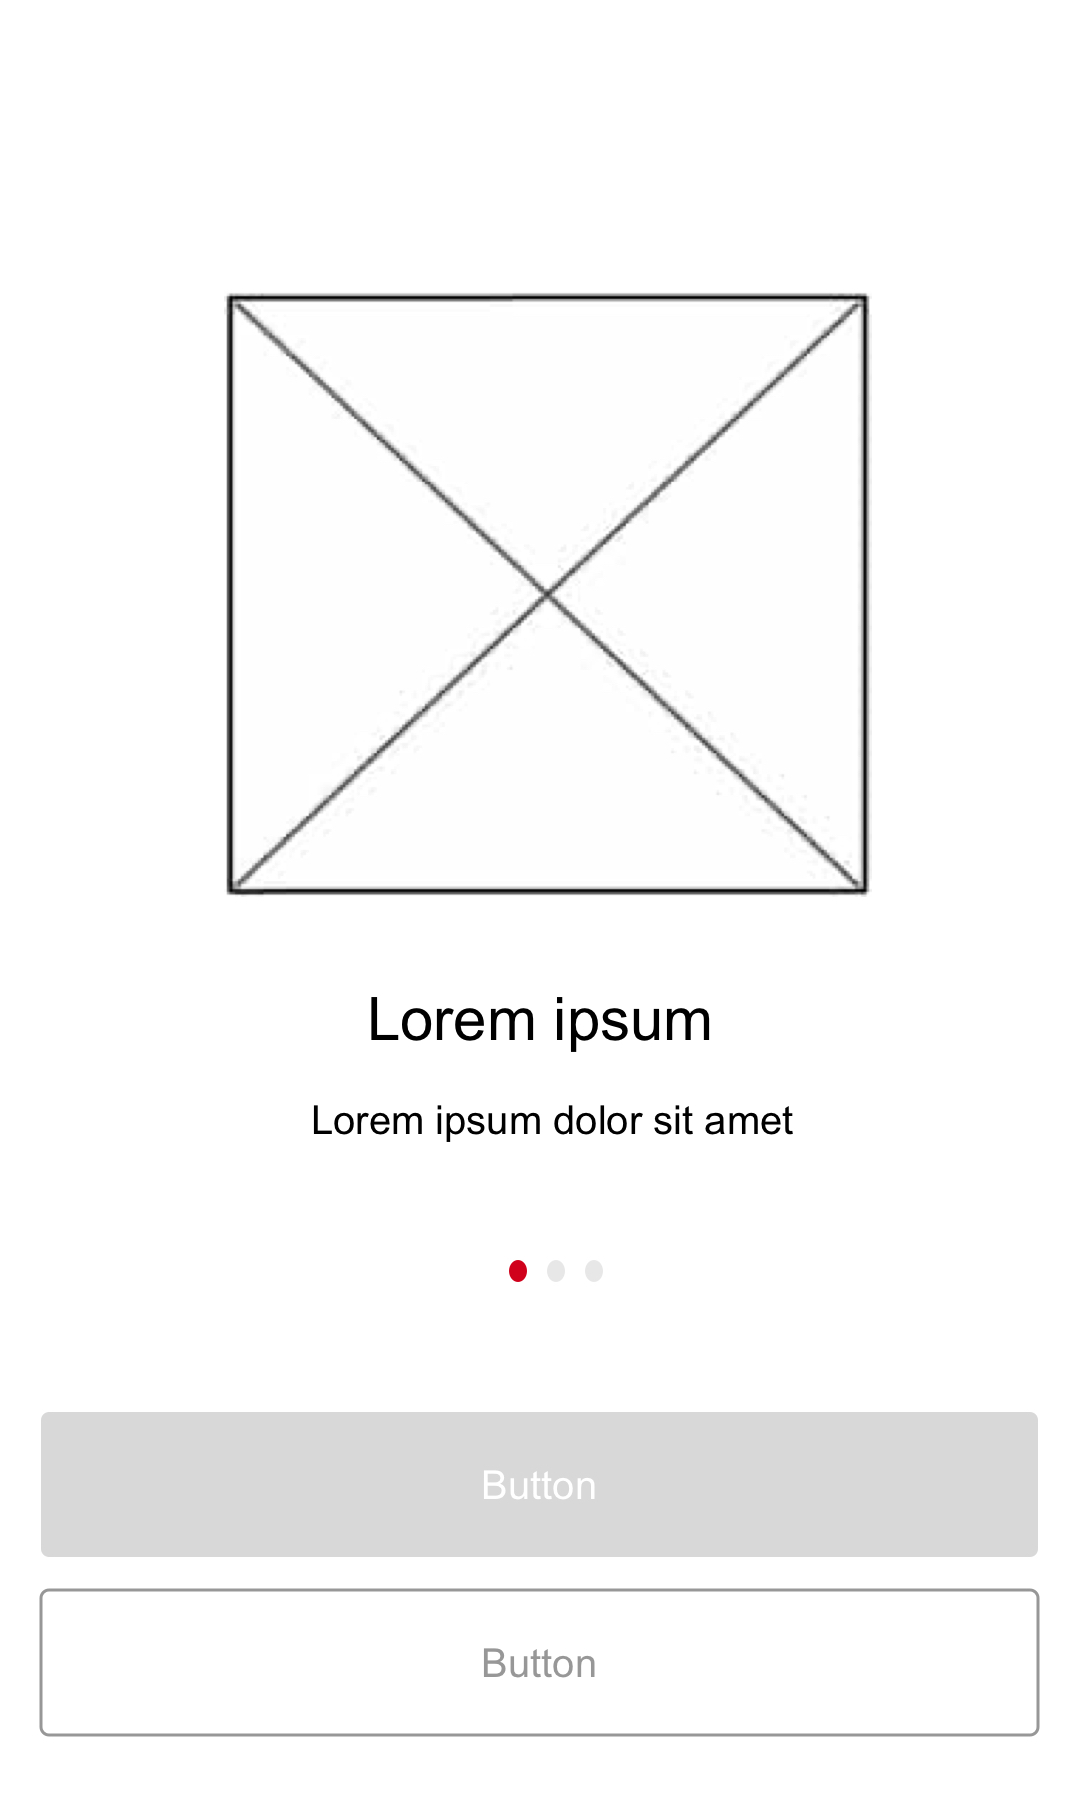Image: (225, 293, 872, 898)
PageIndicator: (509, 1258, 603, 1283)
Text: (372, 996, 710, 1053), (313, 1106, 794, 1143)
TextButton: (38, 1588, 1042, 1738), (41, 1411, 1039, 1558)
